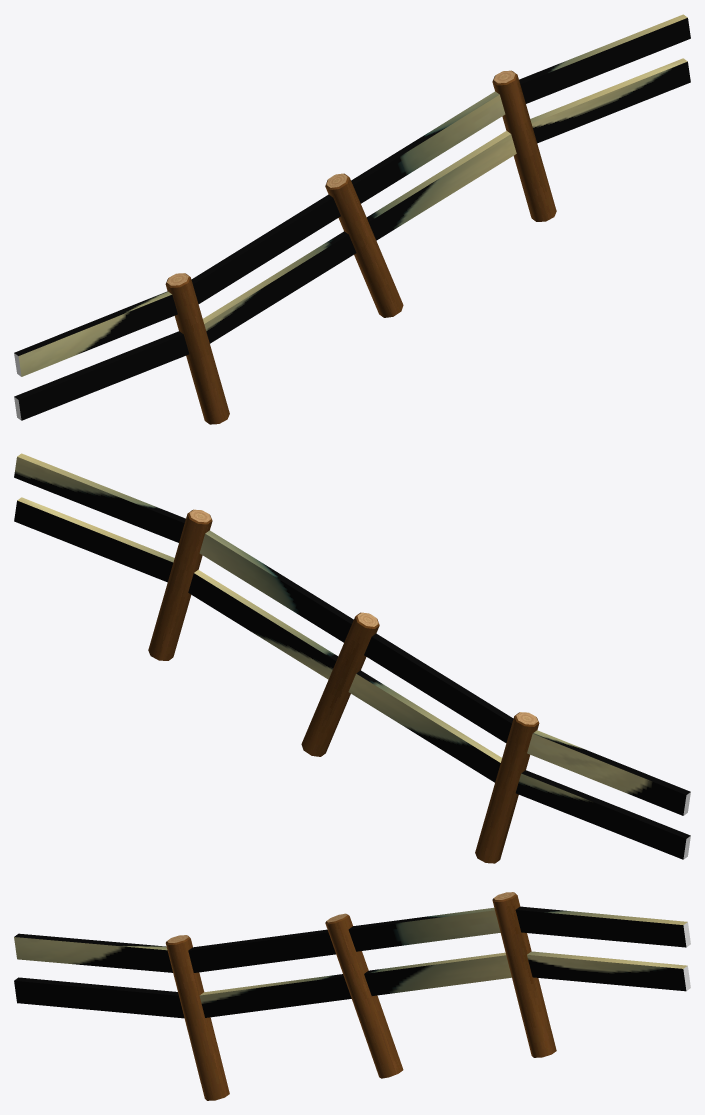
Rendered from Path_Fence_Incline_Gentle_1x4.fbx.
3 renders of one model, top to bottom at view 1: azimuth 30°, elevation 25°; view 2: azimuth 150°, elevation 25°; view 3: azimuth 330°, elevation 25°, orthographic.
Parts seen in each view (by area): view 1: Path_Fence_Incline_Gentle_1x4; view 2: Path_Fence_Incline_Gentle_1x4; view 3: Path_Fence_Incline_Gentle_1x4.
Part boxes in pixels (bbox=[...]): Path_Fence_Incline_Gentle_1x4: bbox=[14, 14, 690, 424]; Path_Fence_Incline_Gentle_1x4: bbox=[14, 453, 690, 863]; Path_Fence_Incline_Gentle_1x4: bbox=[14, 892, 690, 1100].
Size of the model in its own units: 402 by 166 by 12.5.
